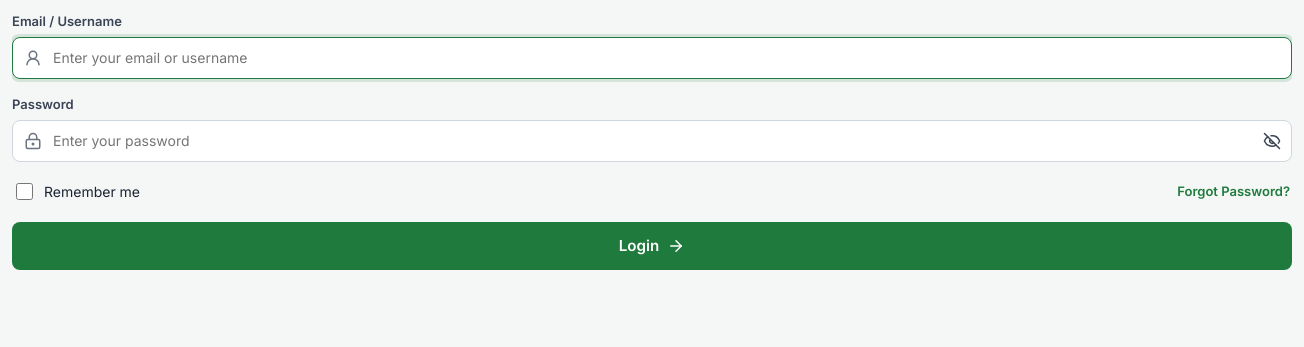
Test: LoginForm › shows the server message and clears the password when login fails
The image size is (1304, 347).
In the field labelled "Email / Username": (652, 58) [12, 37, 1292, 79], type "ravi"
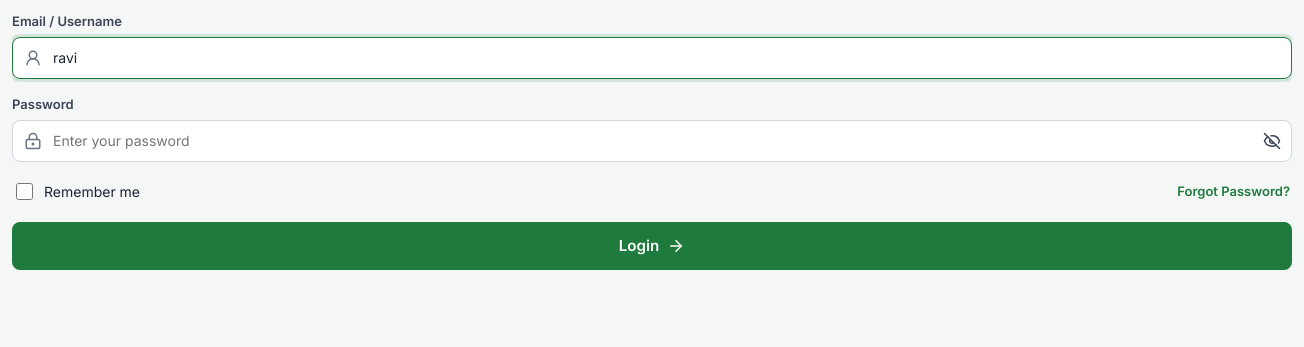
In the password field labelled "Password": (652, 141) [12, 120, 1292, 162], type "wrong"
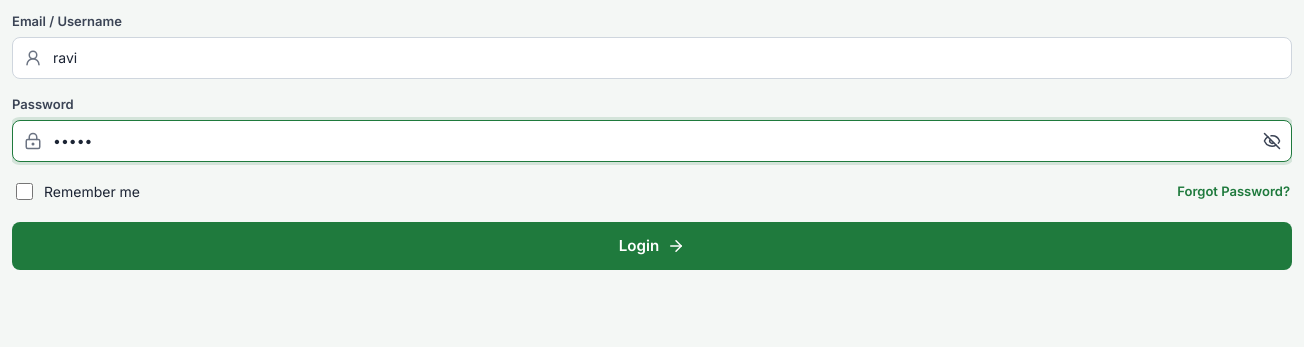
Click the button "Login": (652, 246) [12, 222, 1292, 270]
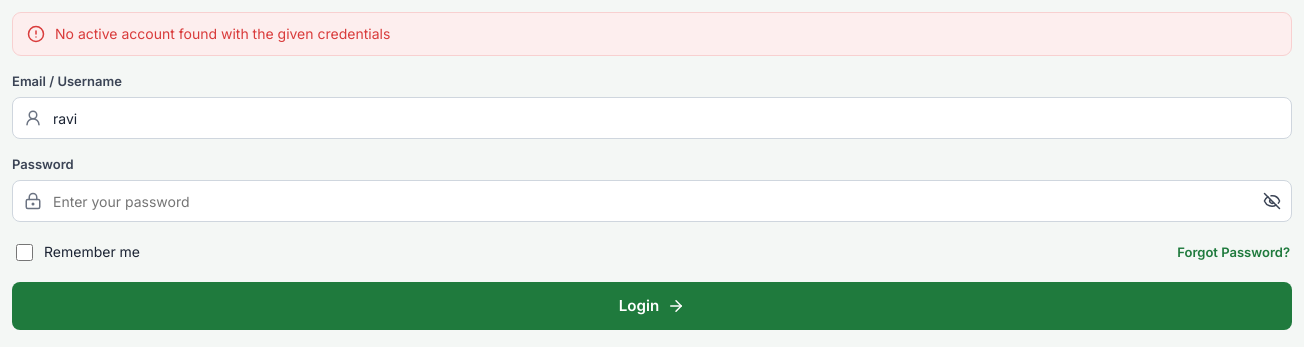
Check: the text "No active account found with the given credentials" is shown, box [55, 25, 390, 42]
Check: the password field labelled "Password" is empty, box [12, 180, 1292, 222]
